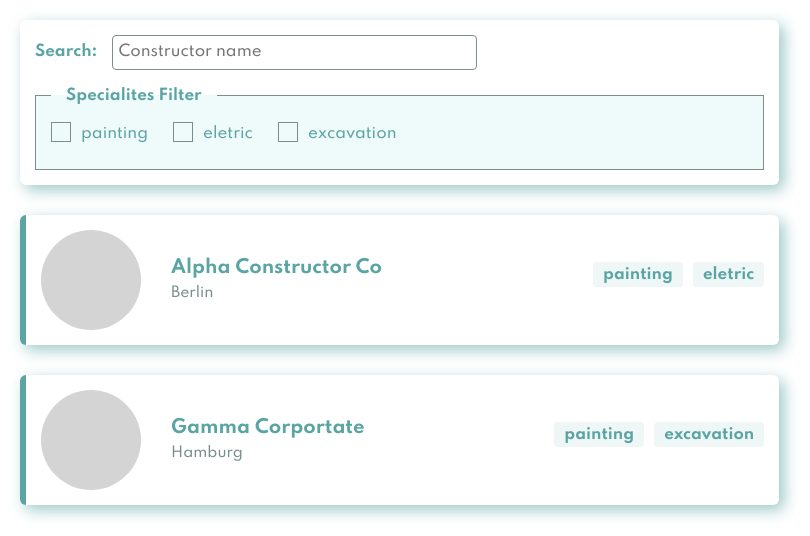
Constructor List component › should filter all constructor with excavation specialtie
The image size is (810, 536).
Click the checkbox labelled "excavation".
click(288, 132)  # box [278,122,298,142]
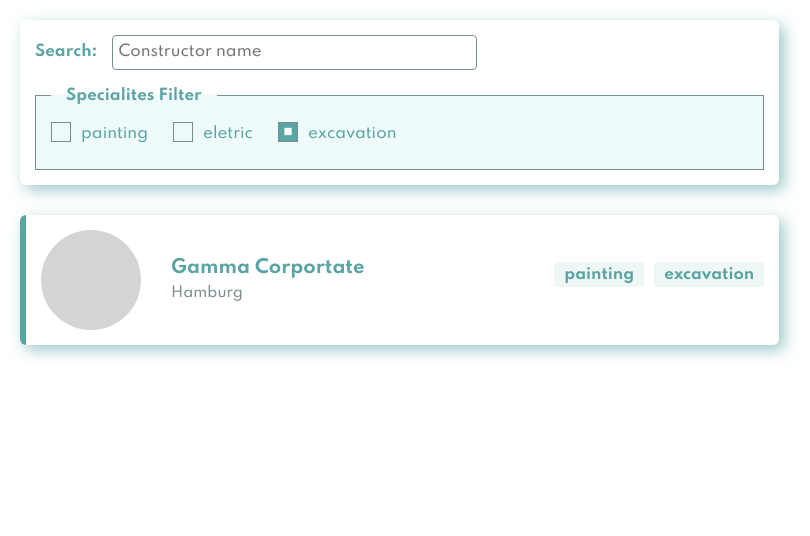
Expected: the heading "Gamma Corportate" is shown, [171,255,365,282]
Expected: the heading "Alpha Constructor Co" is gone
